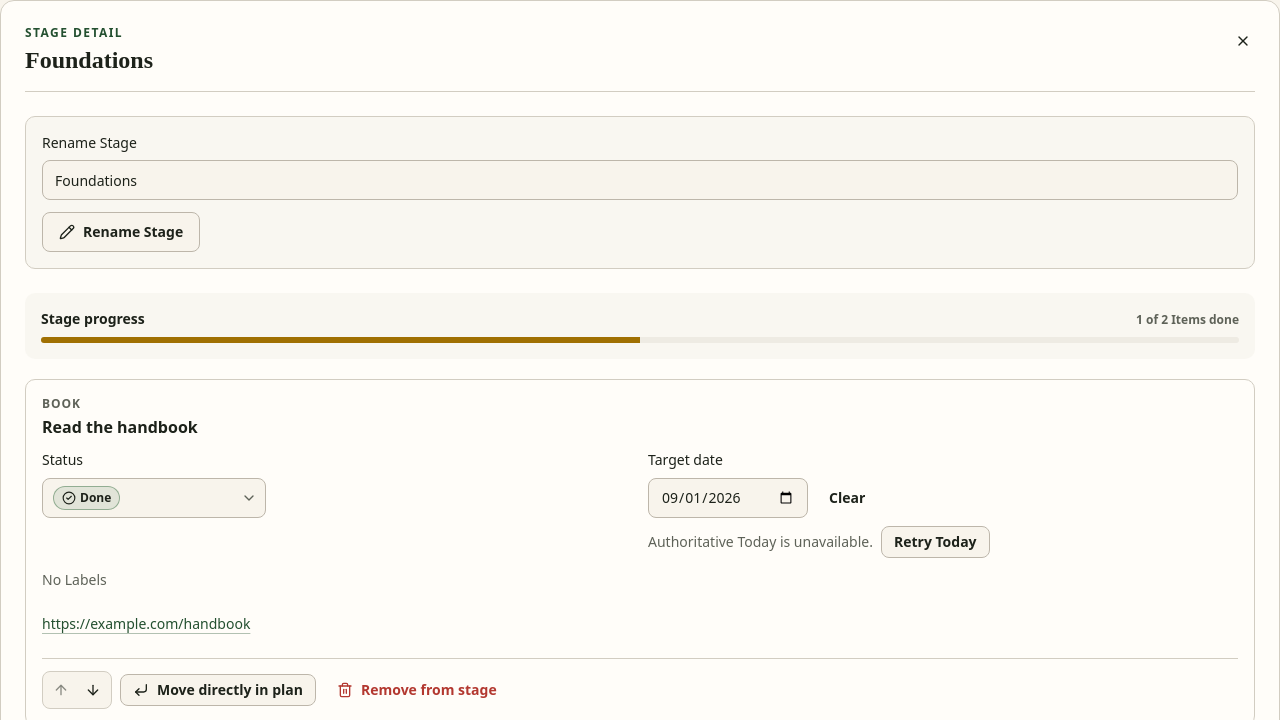
Scenario: Stage detail panel › keeps a successful rename when the surrounding plan refresh fails
Replace the text in the field labelled "Rename Stage" with "Core ideas": (640, 180) [42,160,1238,200]
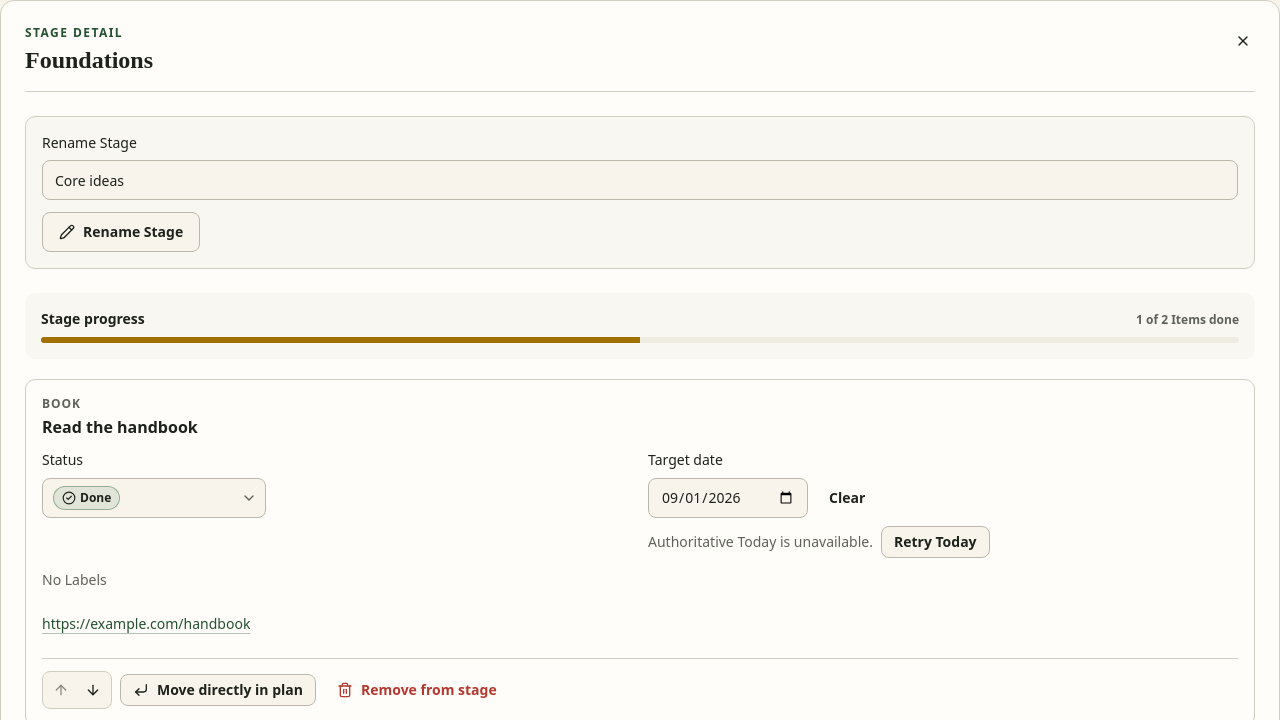
Click the button "Rename Stage": (121, 232) [42,212,200,252]
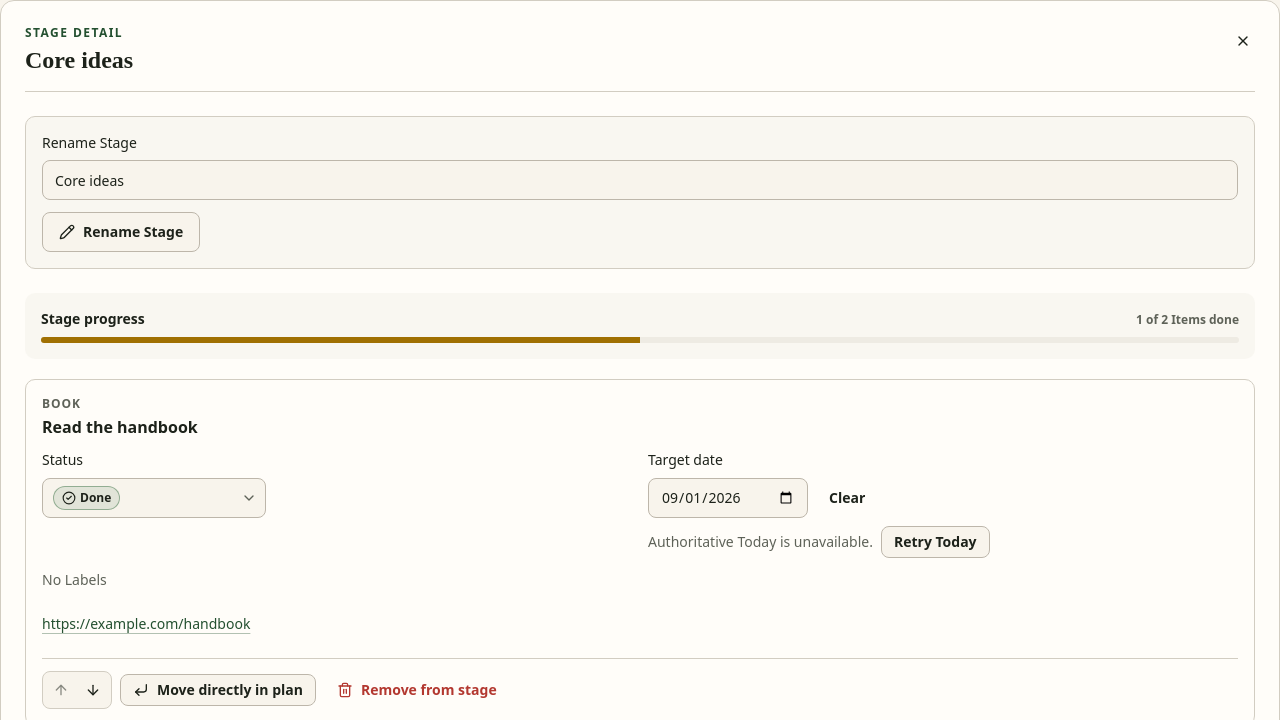
Now the heading "Core ideas" is shown, box [25,45,133,75]
